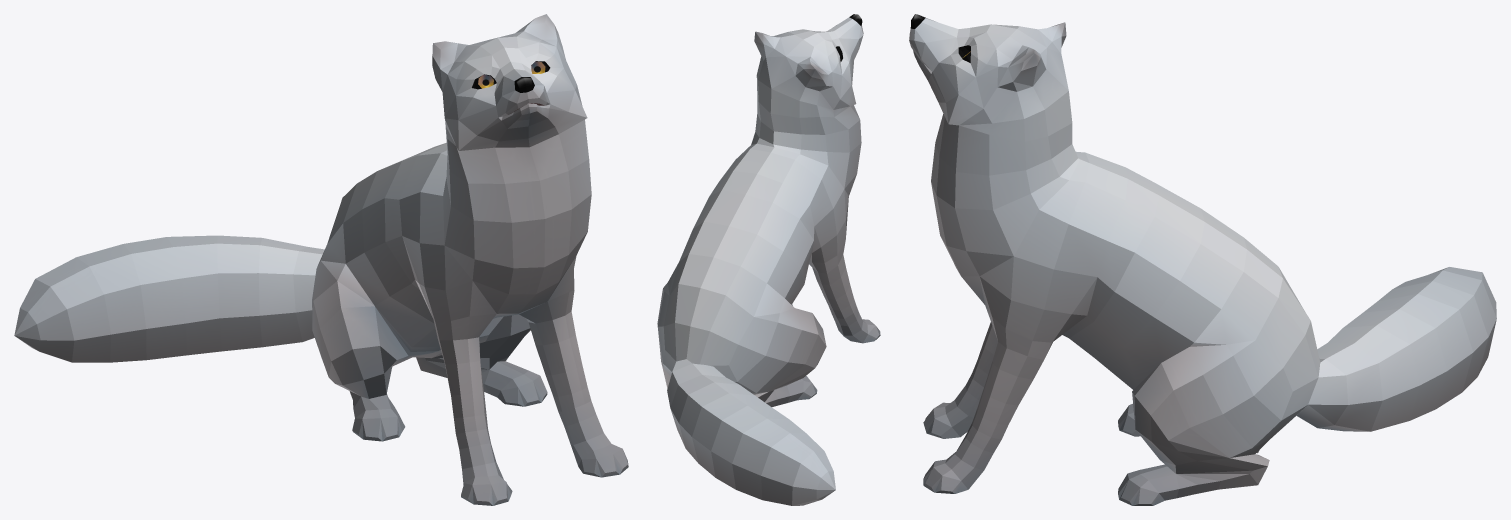
The model's file is Arctic Fox (Sitting).glb.
3 renders of one model, left to right at view 1: azimuth 30°, elevation 25°; view 2: azimuth 150°, elevation 25°; view 3: azimuth 270°, elevation 25°, orthographic. The views are drawn at different scales.
Parts seen in each view (by area): view 1: ArcticFox; view 2: ArcticFox; view 3: ArcticFox.
Part boxes in pixels (left/top/right/bottom): ArcticFox: left=14, top=14, right=628, bottom=505; ArcticFox: left=657, top=14, right=880, bottom=505; ArcticFox: left=909, top=14, right=1496, bottom=505.
Size of the model in its own units: 5.29 by 5.86 by 7.15.
Materials: 1 (1 with a texture image).
